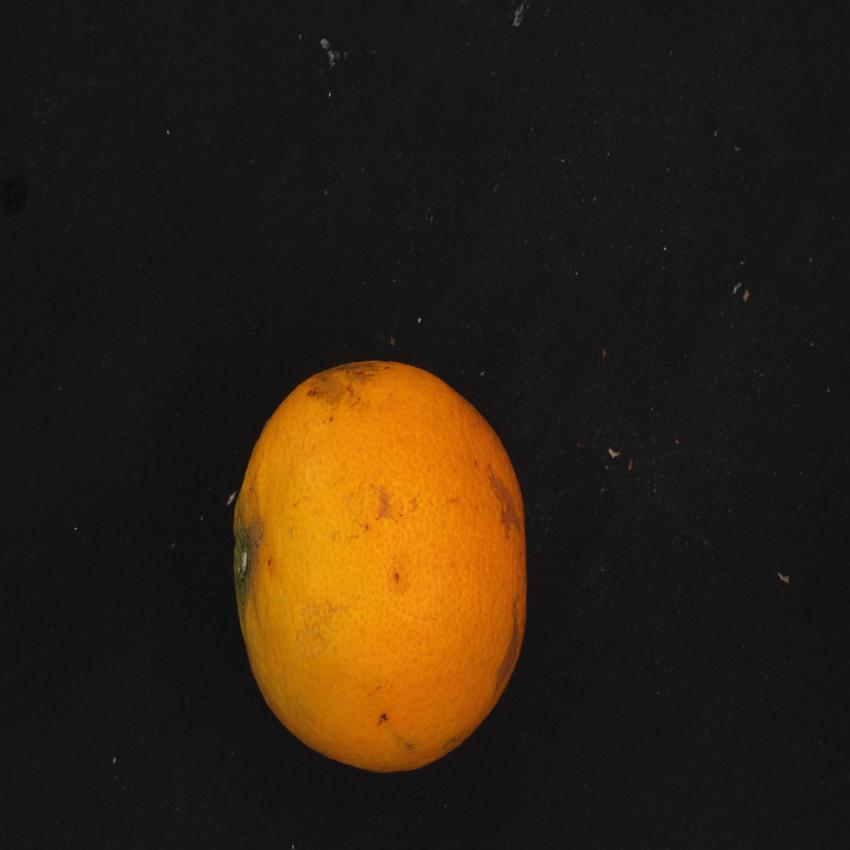Buen estado: (224, 352, 555, 783)
